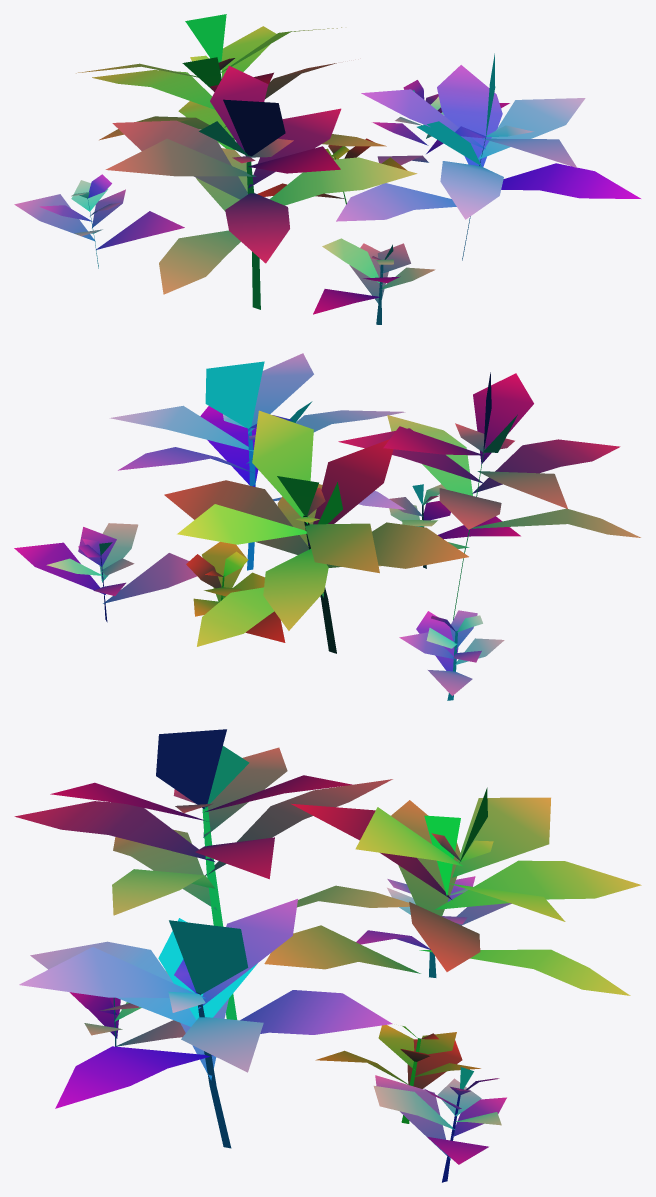
The model's file is xefmcgrqx_VarH_LOD2.fbx.
3 renders of one model, top to bottom at view 1: azimuth 30°, elevation 25°; view 2: azimuth 150°, elevation 25°; view 3: azimuth 270°, elevation 25°, orthographic. The views are drawn at different scales.
Parts seen in each view (by area): view 1: _k0wg_VarH_LOD5; view 2: _k0wg_VarH_LOD5; view 3: _k0wg_VarH_LOD5.
Part boxes in pixels (x1,y1,x2,y2): _k0wg_VarH_LOD5: (14,14,640,324); _k0wg_VarH_LOD5: (14,353,640,700); _k0wg_VarH_LOD5: (14,729,641,1182).
Size of the model in its own units: 68.24 by 30.94 by 61.45.
